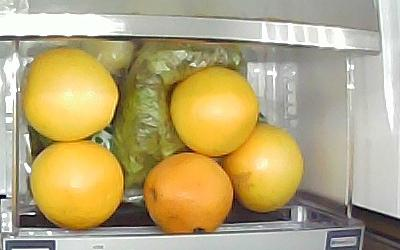grapefruit: (20, 45, 118, 141), (168, 63, 259, 156), (28, 139, 123, 228), (220, 121, 304, 212), (142, 150, 233, 233)
